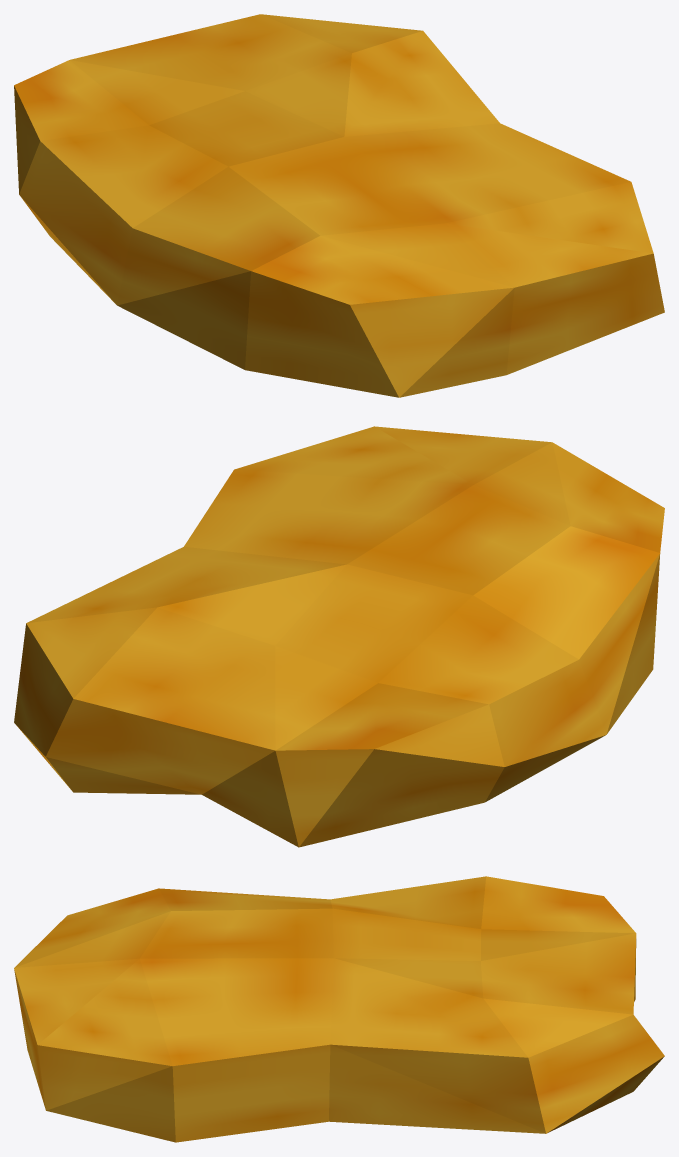
The model's file is nugget.fbx.
The picture shows the model from 3 angles, top to bottom: view 1: azimuth 30°, elevation 25°; view 2: azimuth 150°, elevation 25°; view 3: azimuth 270°, elevation 25°; orthographic projection. The views are drawn at different scales.
Visible parts, largest first — view 1: Cube; view 2: Cube; view 3: Cube.
Part boxes in pixels (box(x1,y1,x2,y2)): Cube: box(14, 14, 664, 397); Cube: box(14, 426, 664, 847); Cube: box(14, 876, 664, 1142).
Bounding box in the file's own units: 0.0538 × 0.0153 × 0.0793.
1 material, 1 textured.
